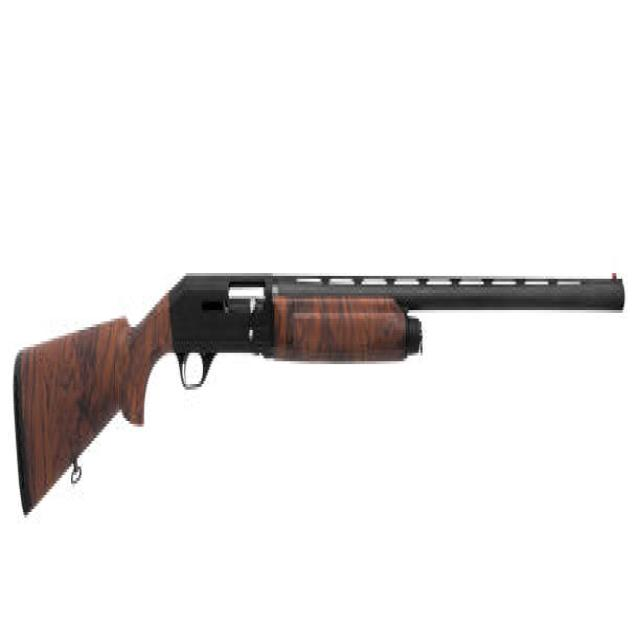rifle: (14, 261, 626, 531)
